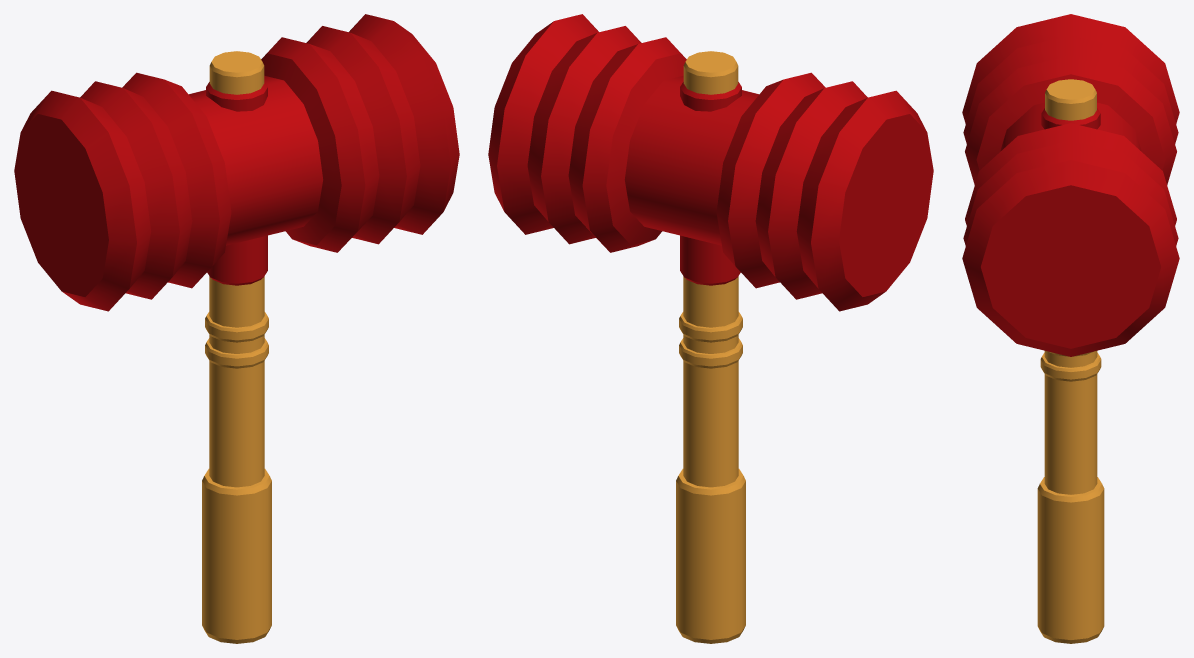
File: F_Hammer_Squeaky_01.fbx
3 views of the same model, side by side, from view 1: azimuth 30°, elevation 25°; view 2: azimuth 150°, elevation 25°; view 3: azimuth 270°, elevation 25° (orthographic). The views are drawn at different scales.
Visible parts, largest first — view 1: F_Hammer_Squeaky_01; view 2: F_Hammer_Squeaky_01; view 3: F_Hammer_Squeaky_01.
Part boxes in pixels (x1,y1,x2,y2): F_Hammer_Squeaky_01: (14,14,459,643); F_Hammer_Squeaky_01: (488,14,933,643); F_Hammer_Squeaky_01: (962,14,1179,643).
Bounding box in the file's own units: 127 × 198 × 71.62.
